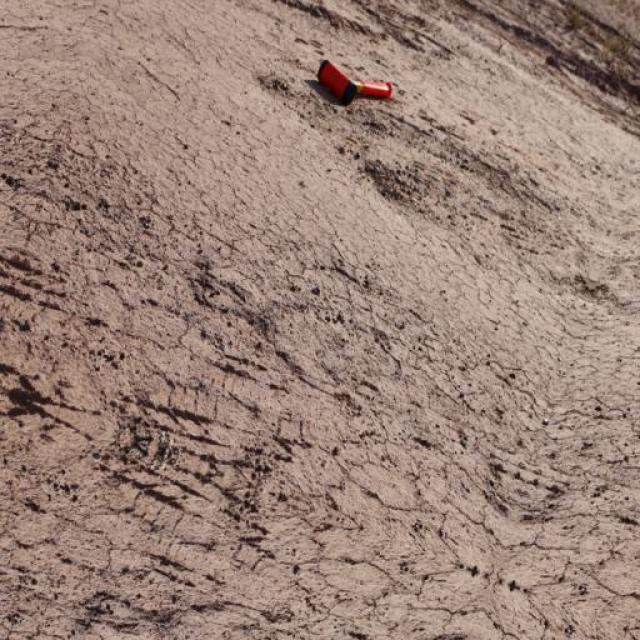mallet: (314, 56, 394, 105)
